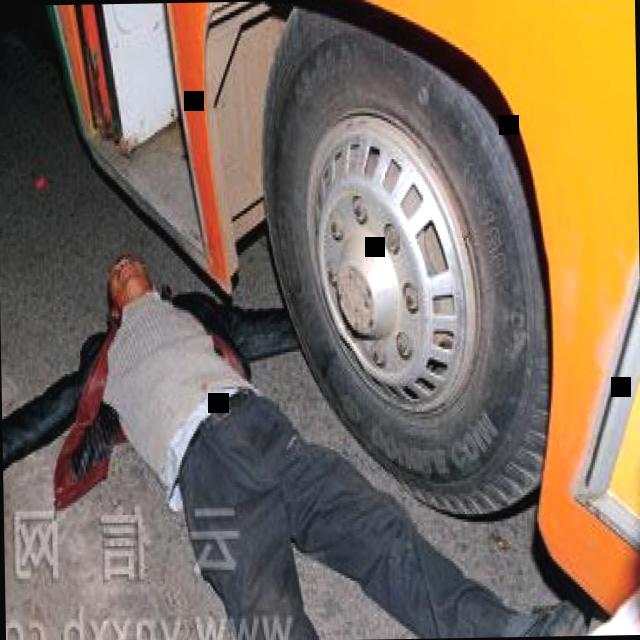Fall-Detected: (34, 223, 640, 640)
